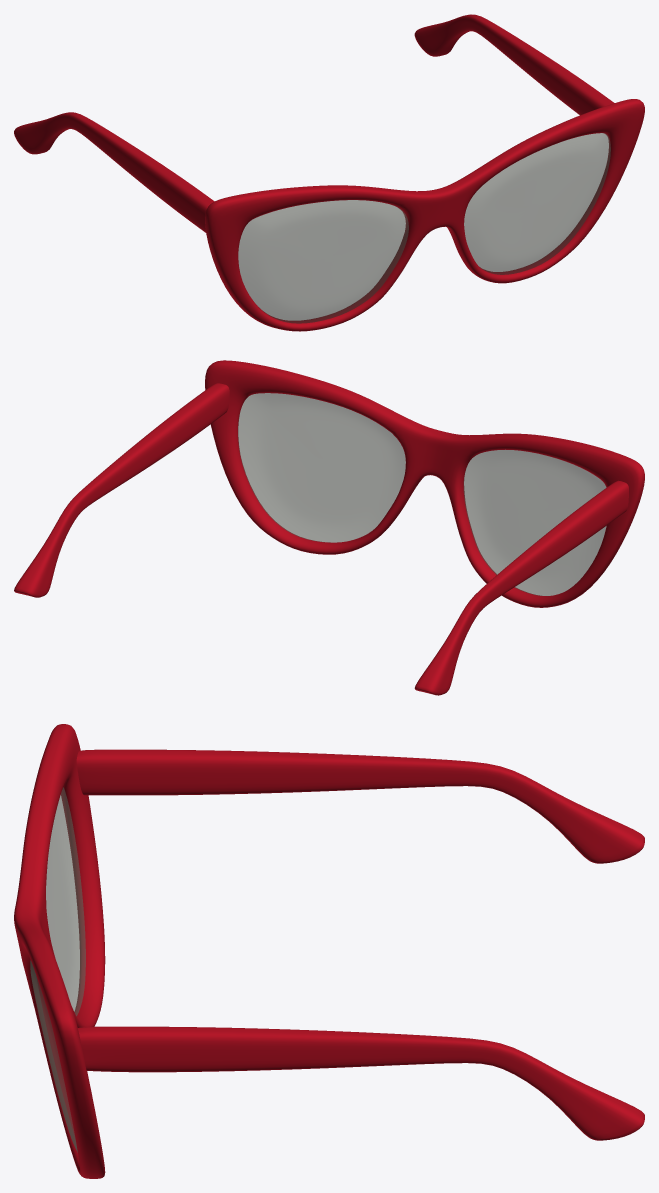
Rendered from glasses-9.glb.
The picture shows the model from 3 angles, top to bottom: view 1: azimuth 30°, elevation 25°; view 2: azimuth 150°, elevation 25°; view 3: azimuth 270°, elevation 25°; orthographic projection. The views are drawn at different scales.
Parts seen in each view (by area): view 1: glasses, frame, bow_left, bow_right; view 2: glasses, frame, bow_right, bow_left; view 3: bow_left, bow_right, frame, glasses.
Part boxes in pixels (<box>): glasses: <box>238,133,610,323</box>; frame: <box>205,99,644,331</box>; bow_left: <box>14,112,214,232</box>; bow_right: <box>414,14,614,115</box>; glasses: <box>238,393,606,595</box>; frame: <box>205,360,644,607</box>; bow_right: <box>14,383,229,597</box>; bow_left: <box>414,480,628,695</box>; bow_left: <box>76,749,644,863</box>; bow_right: <box>78,1026,644,1140</box>; frame: <box>14,724,105,1178</box>; glasses: <box>30,787,85,1152</box>.
Bounding box in the file's own units: 18.56 × 6.51 × 16.4.
